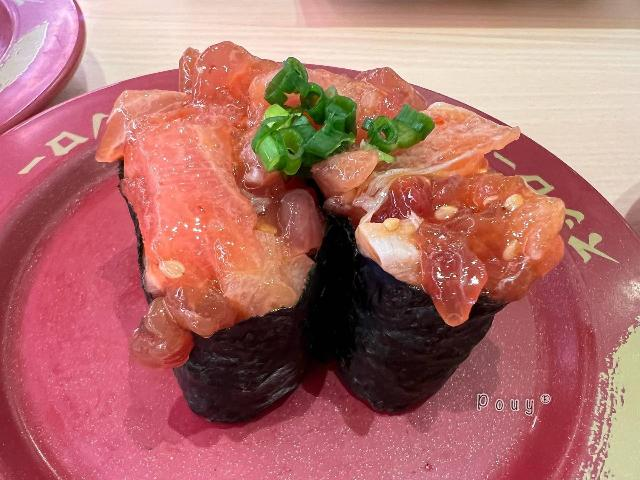janred: (18, 90, 640, 480), (3, 0, 82, 108)
